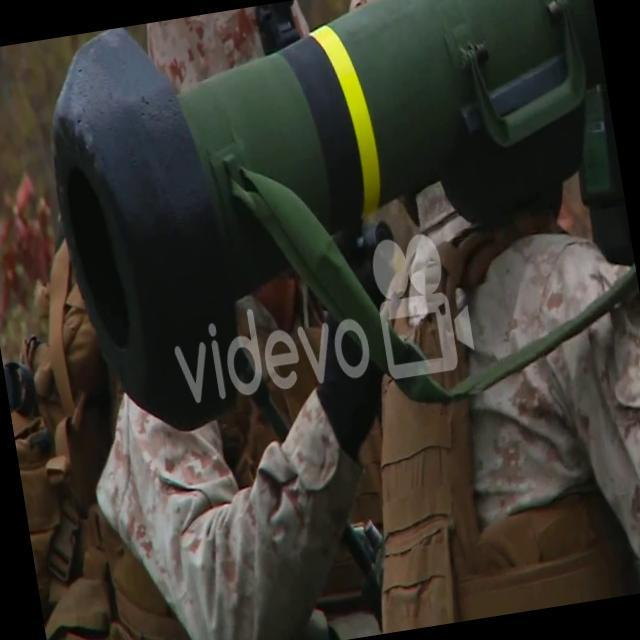rocket: (34, 0, 640, 433)
